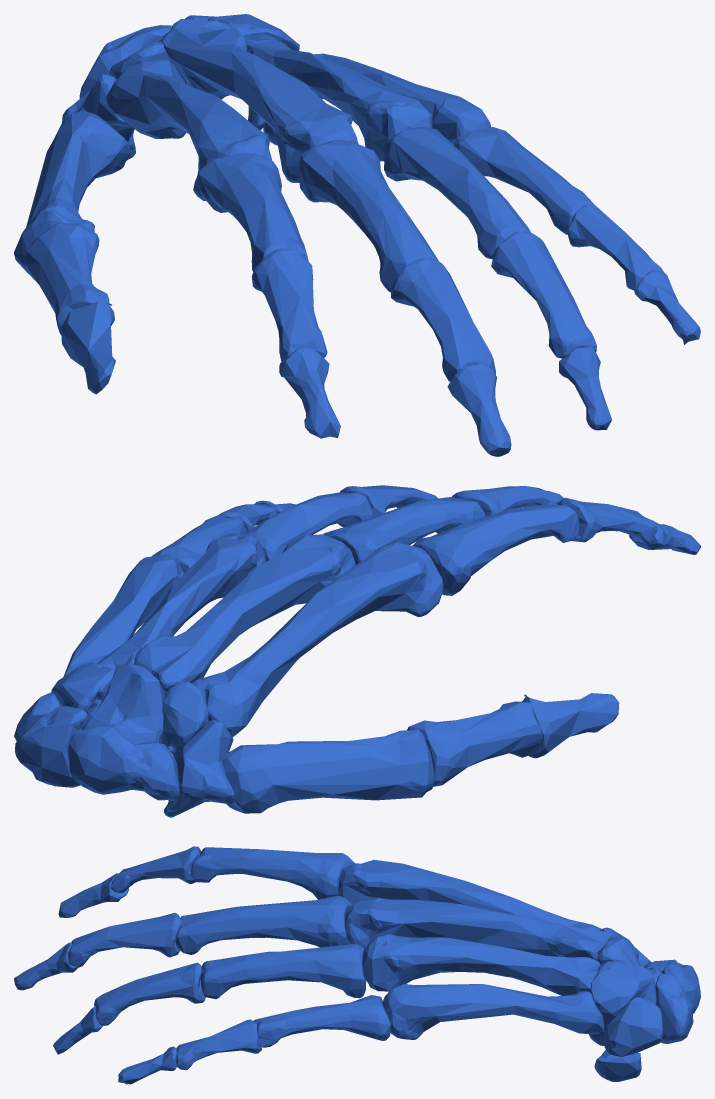
Rendered from blue_bones.obj.
The picture shows the model from 3 angles, top to bottom: view 1: azimuth 30°, elevation 25°; view 2: azimuth 150°, elevation 25°; view 3: azimuth 270°, elevation 25°; orthographic projection. The views are drawn at different scales.
Bounding box in the file's own units: 1.06 × 0.392 × 1.73.
